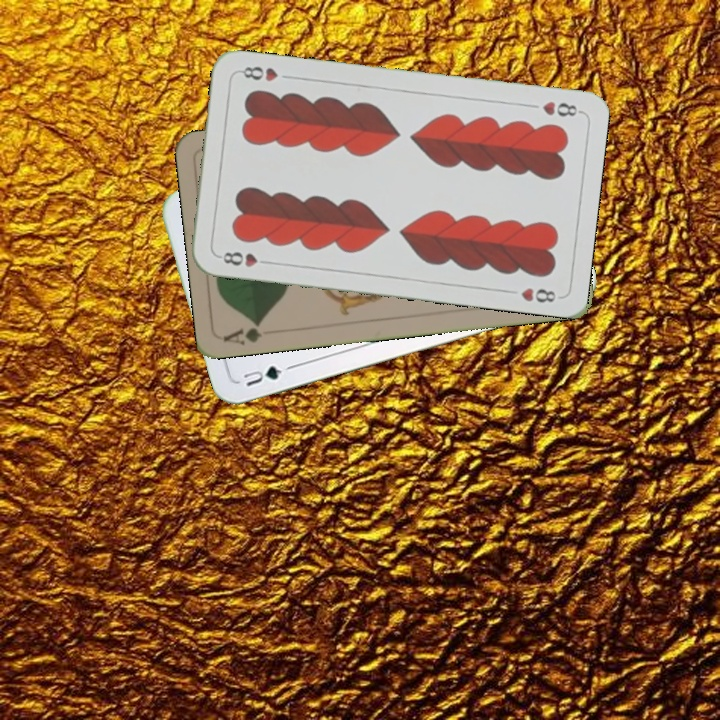GA: (220, 318, 265, 347)
GU: (239, 361, 294, 389)
H8: (214, 247, 274, 270), (538, 97, 583, 119)
